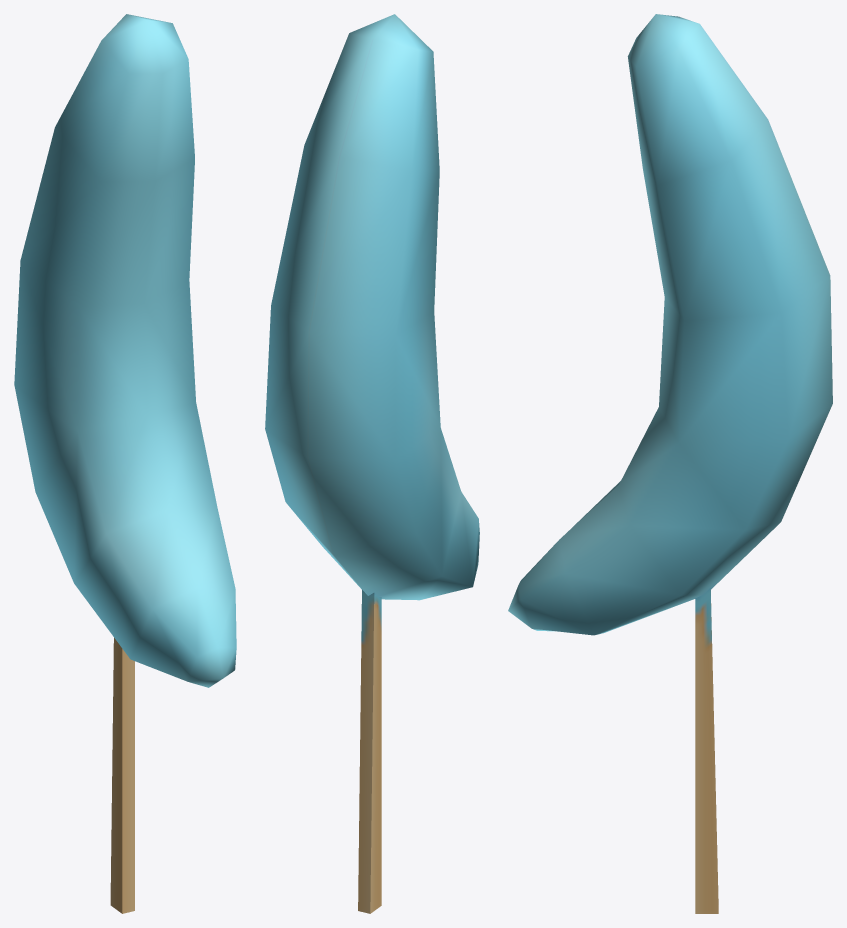
File: jsf_ChocolateBanana_a01_c03.fbx
3 views of the same model, side by side, from view 1: azimuth 30°, elevation 25°; view 2: azimuth 150°, elevation 25°; view 3: azimuth 270°, elevation 25° (orthographic). The views are drawn at different scales.
Parts seen in each view (by area): view 1: jsf_ChocolateBanana_a01_c03; view 2: jsf_ChocolateBanana_a01_c03; view 3: jsf_ChocolateBanana_a01_c03.
Boxes of the visible parts, x1,y1,x2,y2 form: jsf_ChocolateBanana_a01_c03: (14,14,236,913); jsf_ChocolateBanana_a01_c03: (265,14,479,913); jsf_ChocolateBanana_a01_c03: (508,14,832,913).
Size of the model in its own units: 3.73 by 23.83 by 7.83.
